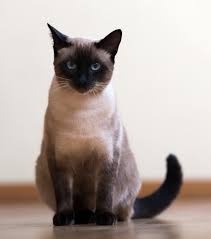Gato: (20, 17, 177, 218)
